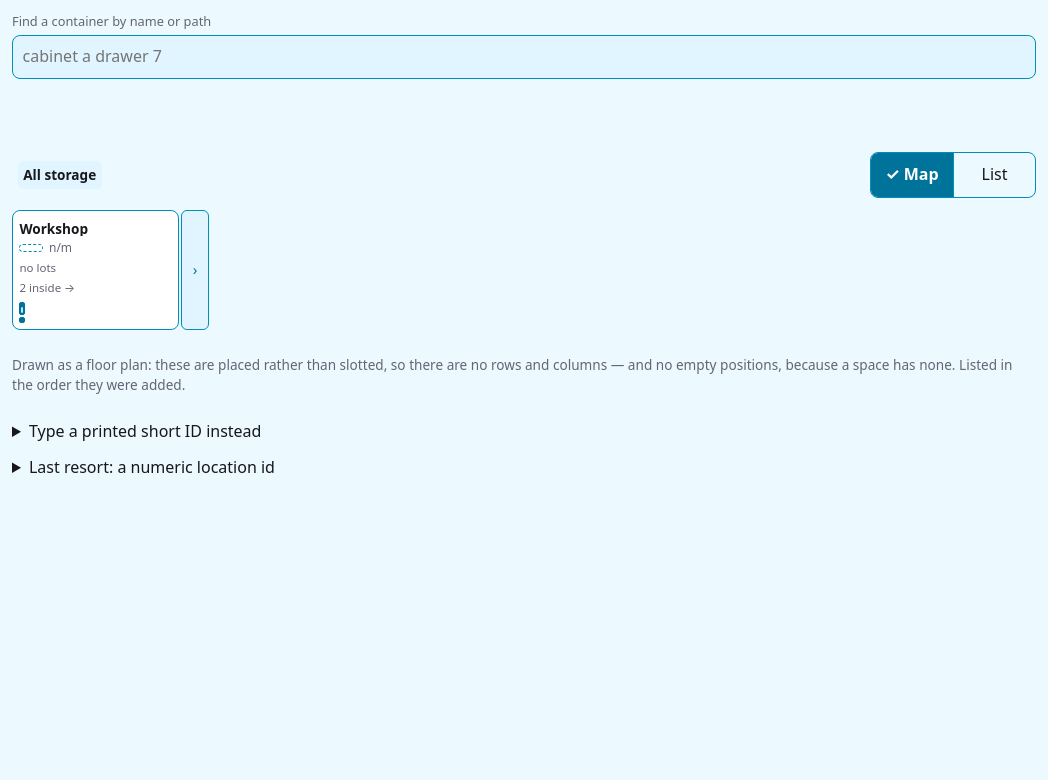
browsing the map › looks inside a container without choosing it
Step 1. Click the button named "Look inside Workshop" → (195, 270), box [181,210,209,330]
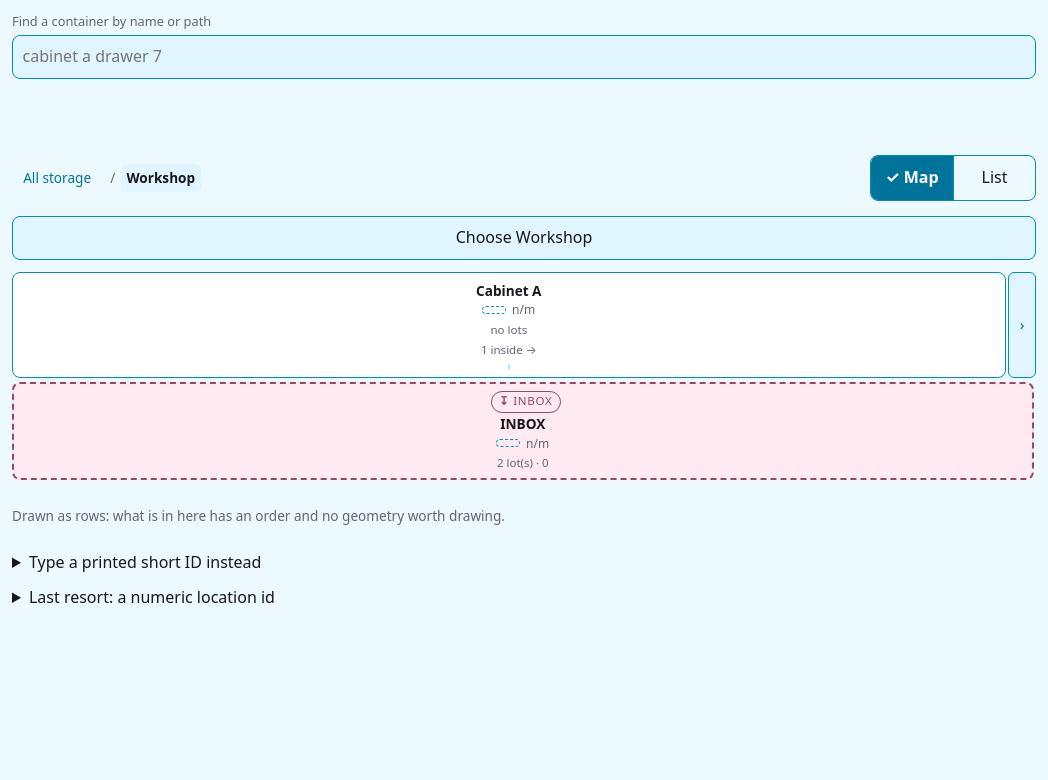
Expected: the button with aria-label "Choose: Cabinet A" is shown, [12,272,1006,378]
